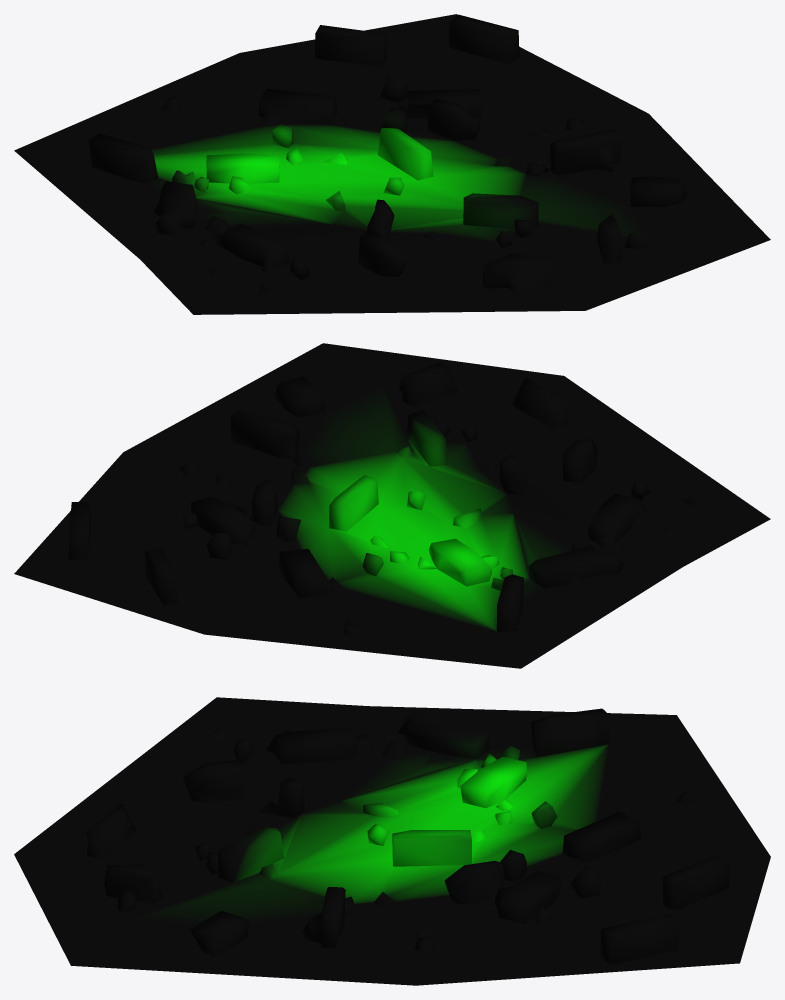
Rendered from DBK_Brick_Rubble_D.fbx.
3 views of the same model, one above another, from view 1: azimuth 30°, elevation 25°; view 2: azimuth 150°, elevation 25°; view 3: azimuth 270°, elevation 25° (orthographic). The views are drawn at different scales.
Parts seen in each view (by area): view 1: DBK_Brick_Rubble_D; view 2: DBK_Brick_Rubble_D; view 3: DBK_Brick_Rubble_D.
Boxes of the visible parts, <box> form: DBK_Brick_Rubble_D: <box>14,14,770,314</box>; DBK_Brick_Rubble_D: <box>14,343,770,668</box>; DBK_Brick_Rubble_D: <box>14,697,770,985</box>.
Size of the model in its own units: 192 by 10.43 by 214.
